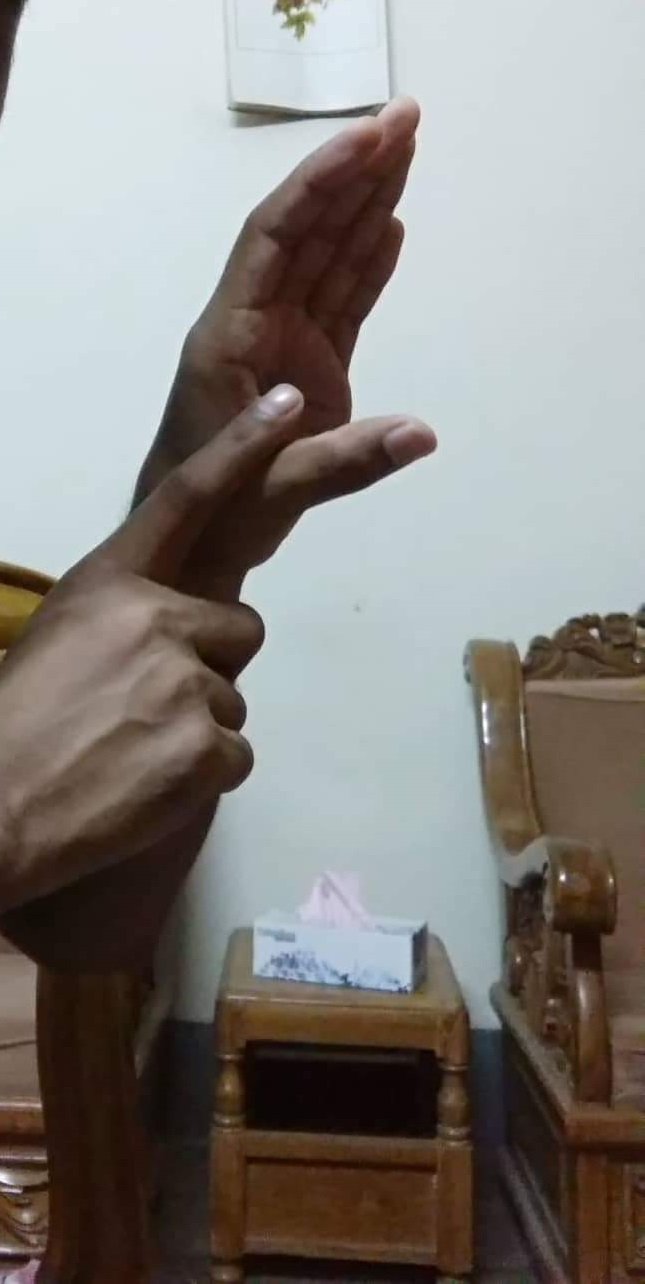dh: (104, 102, 425, 841)
